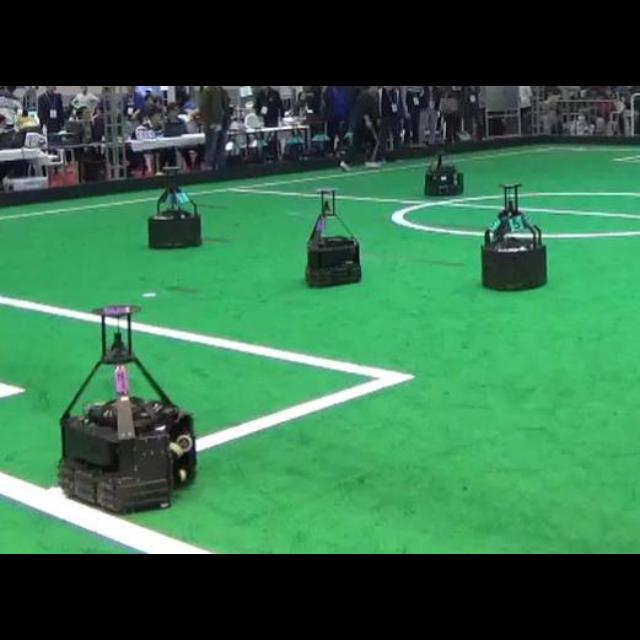robot: (59, 305, 196, 512), (482, 184, 545, 289), (306, 188, 361, 287), (148, 166, 201, 248), (424, 155, 464, 195)
